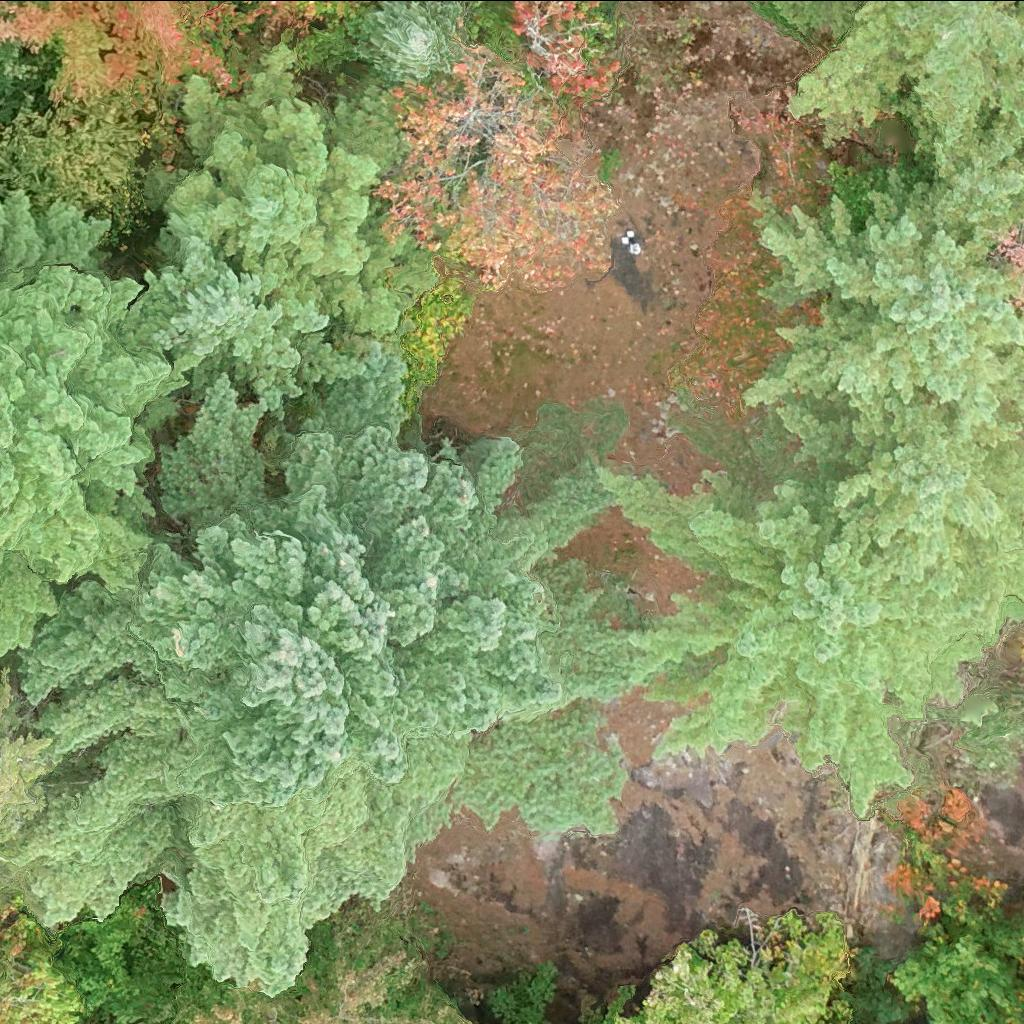crown: (6, 345, 638, 991), (600, 399, 1023, 816), (743, 169, 1023, 579), (126, 49, 408, 424), (0, 192, 191, 660), (369, 47, 611, 290), (786, 0, 1023, 148), (0, 0, 262, 127), (168, 919, 475, 1023), (597, 910, 856, 1023), (904, 103, 1023, 256), (888, 911, 1023, 1023), (0, 670, 55, 887), (0, 896, 86, 1023), (356, 0, 478, 89), (507, 0, 614, 94), (493, 967, 553, 1023), (243, 0, 370, 26), (989, 227, 1023, 281), (0, 23, 26, 78), (0, 0, 52, 14), (1009, 294, 1023, 313), (471, 0, 486, 5)
